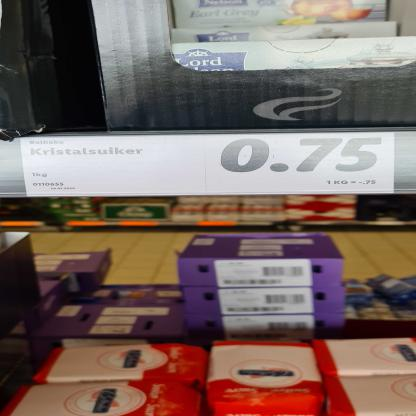prtg: (20, 133, 395, 198)
